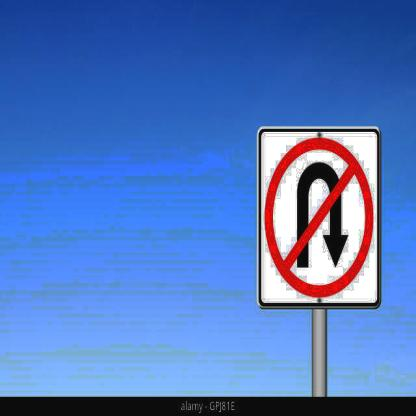No U-turn: (255, 127, 375, 302)
